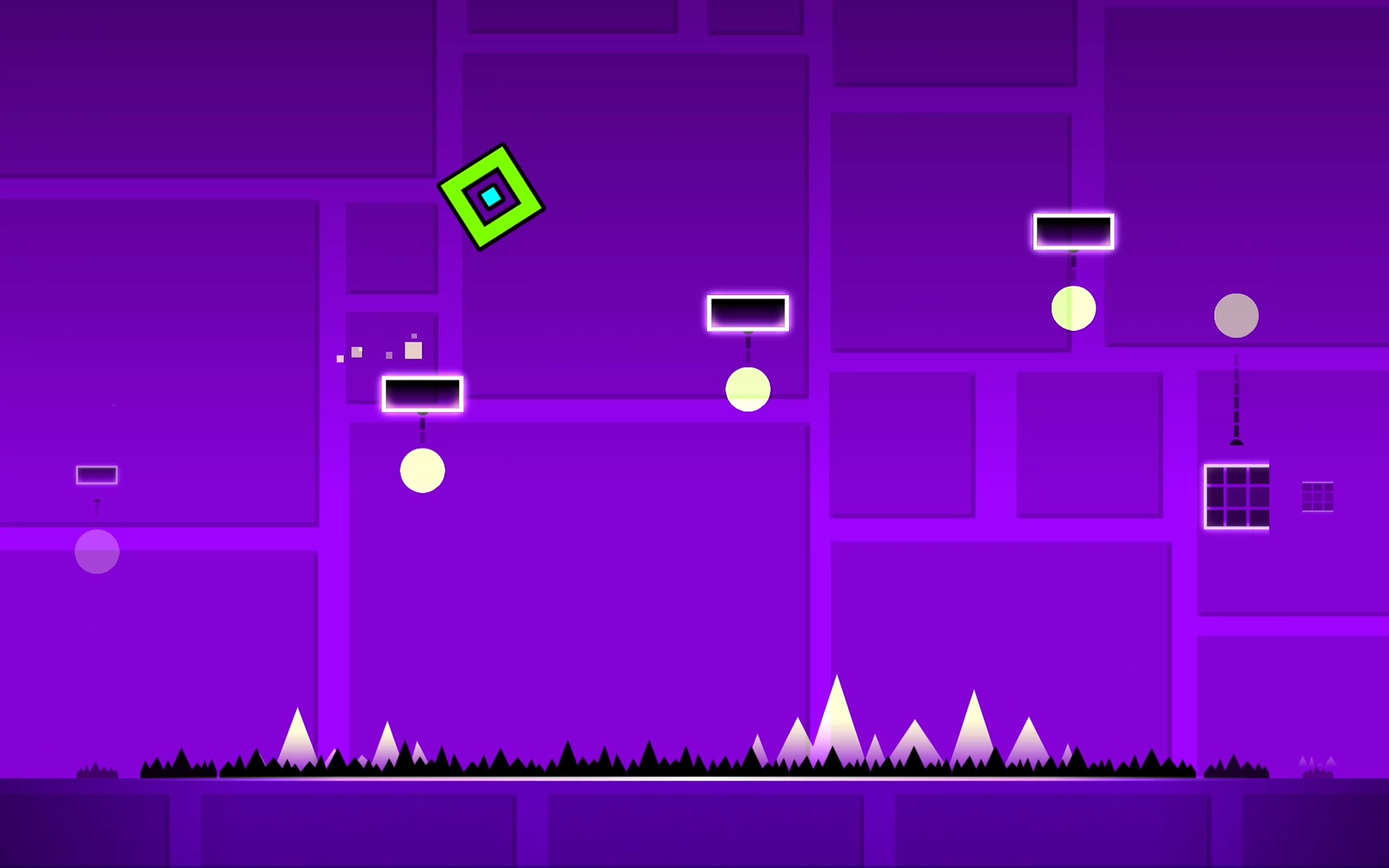Block2: (1203, 463, 1272, 529)
Block3: (1033, 214, 1118, 251), (380, 376, 464, 413), (709, 294, 793, 330), (75, 465, 118, 485)
Player: (438, 144, 543, 248)
Spike3: (26, 738, 1389, 785)
